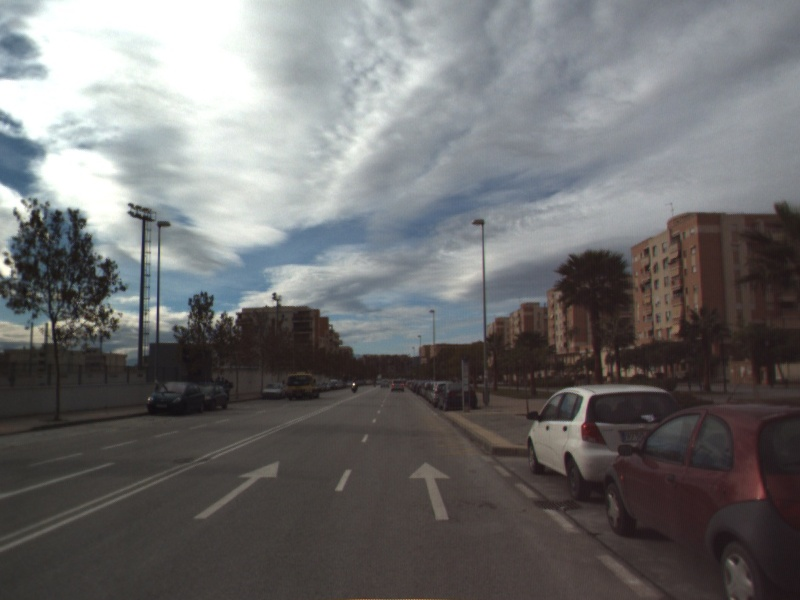STRAIGHT: (192, 459, 281, 521), (407, 460, 453, 522)
